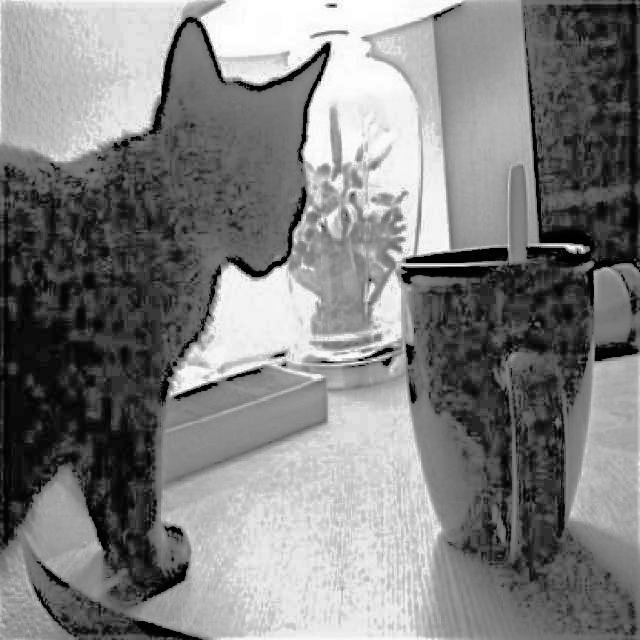Cat: (0, 18, 342, 591)
